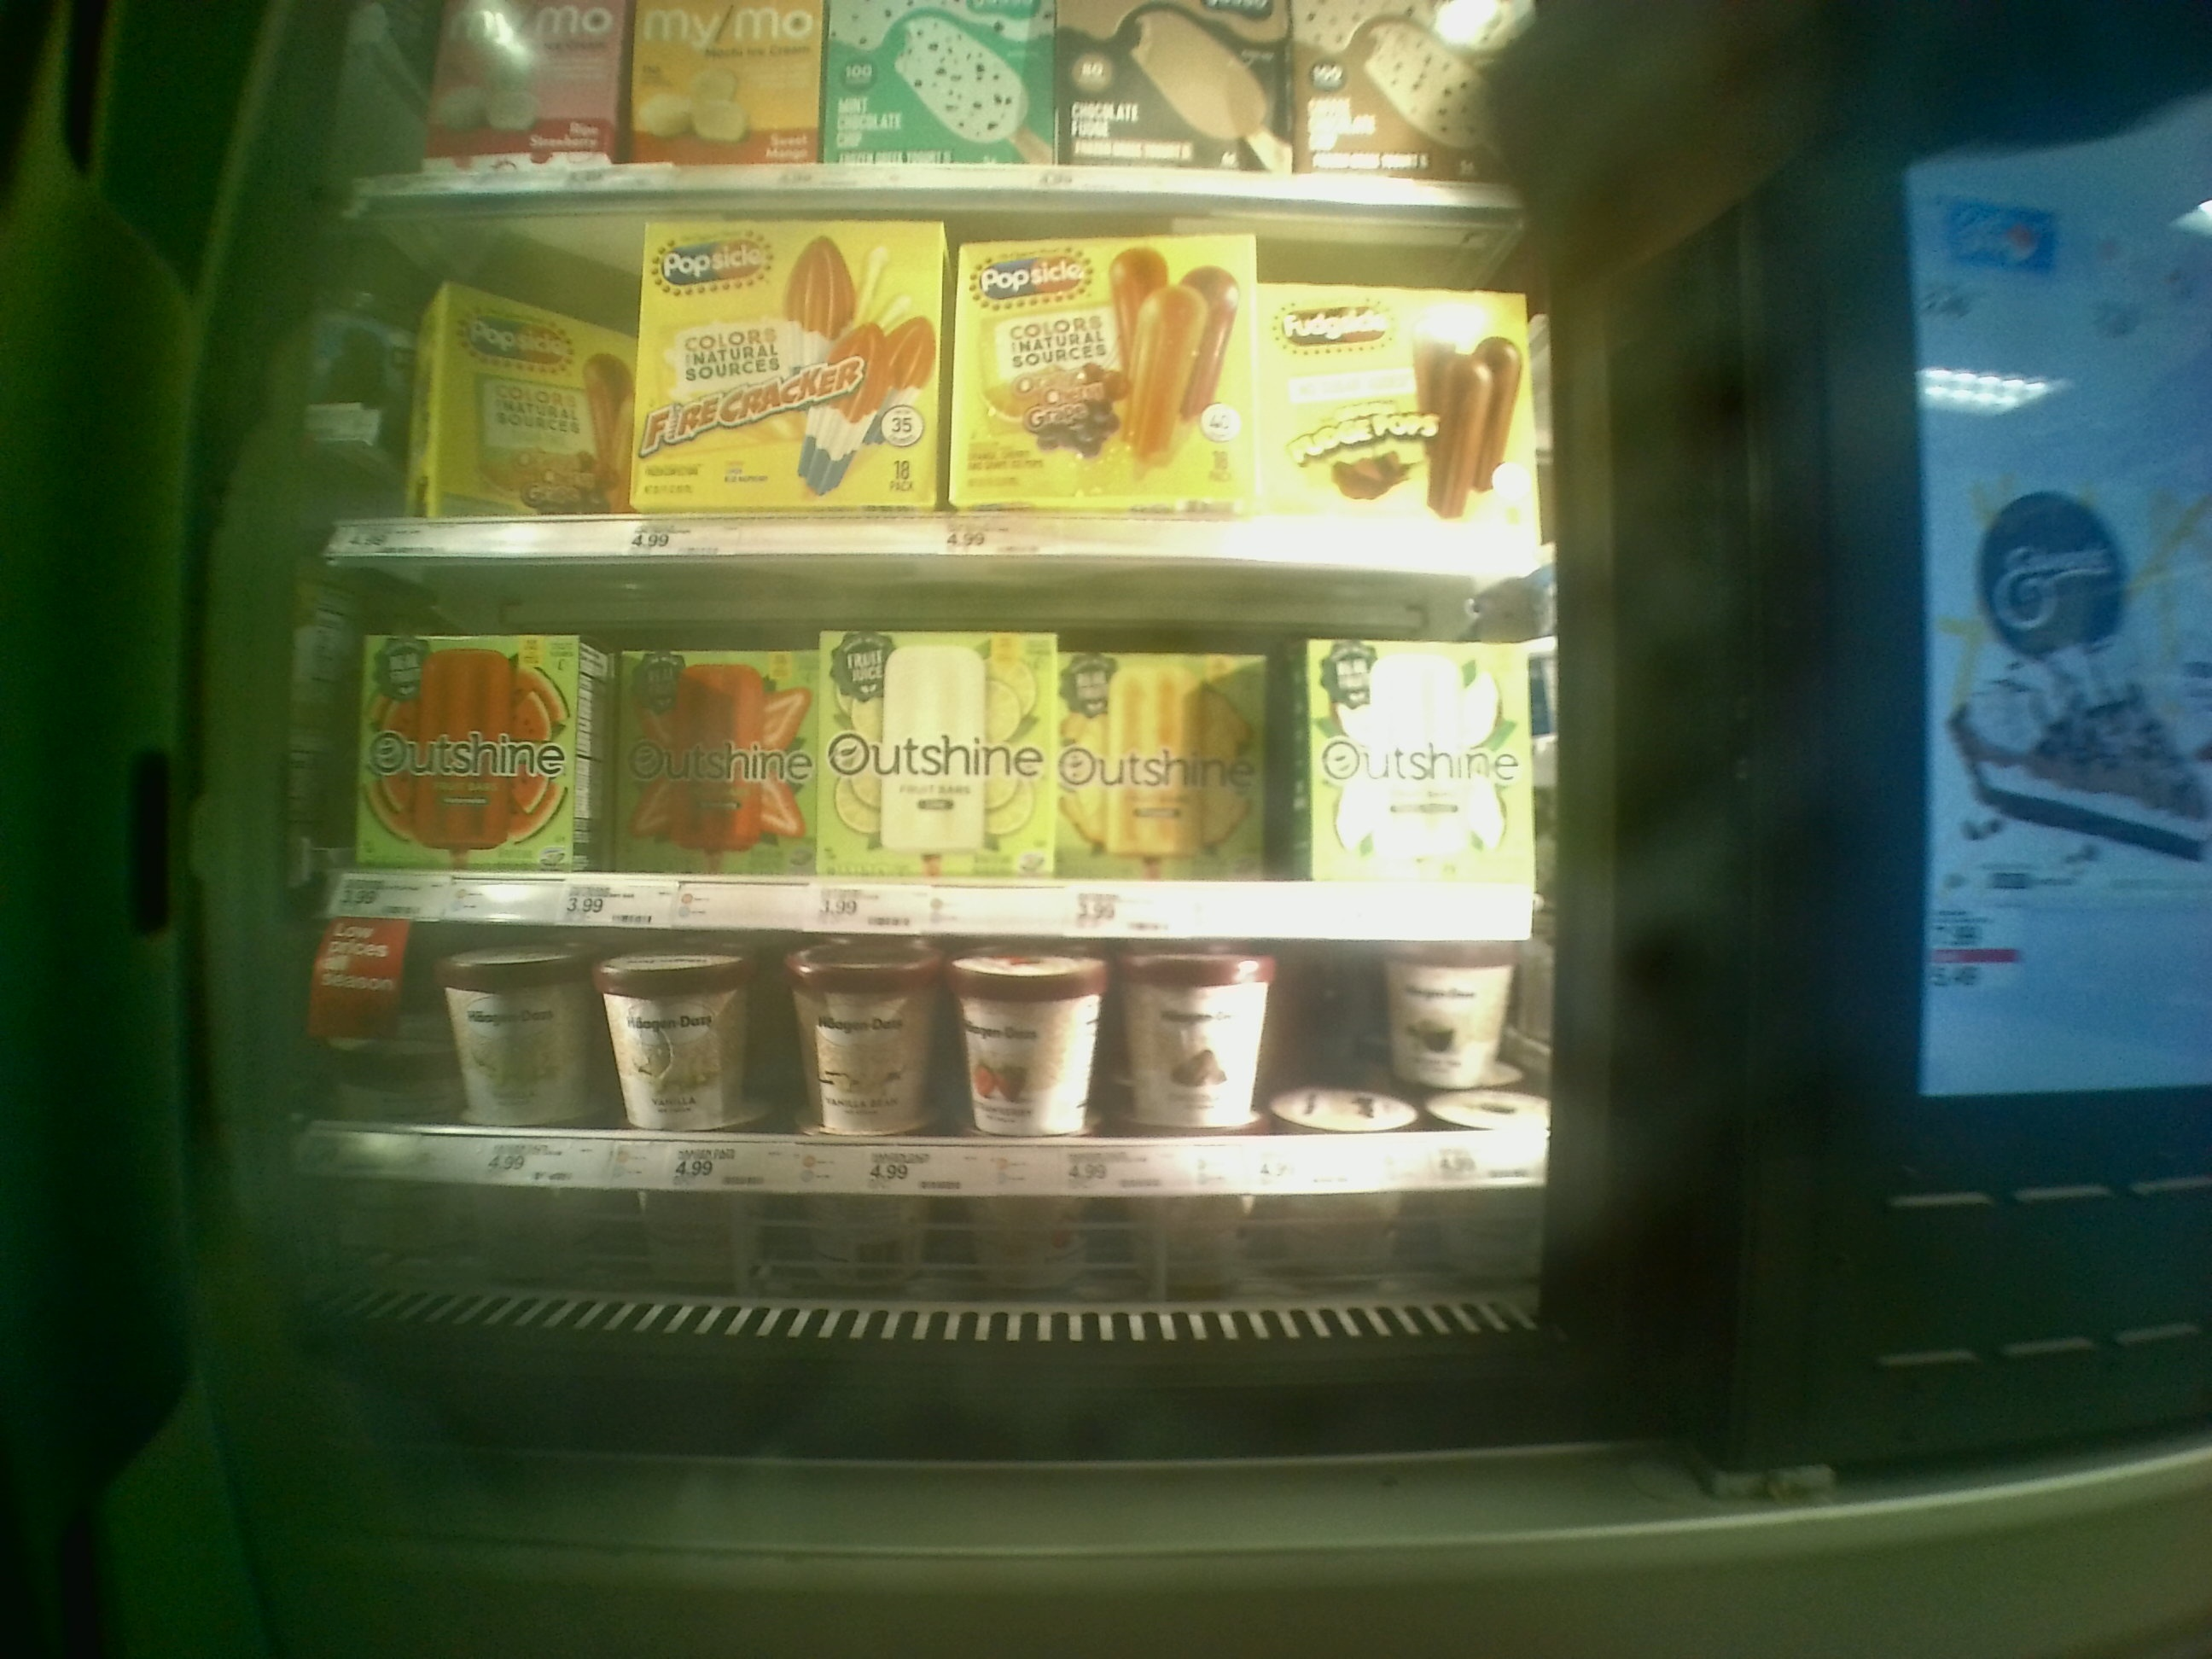ice-cream-shelf: (319, 551, 1545, 915), (319, 202, 1550, 551), (319, 922, 1555, 1260)
